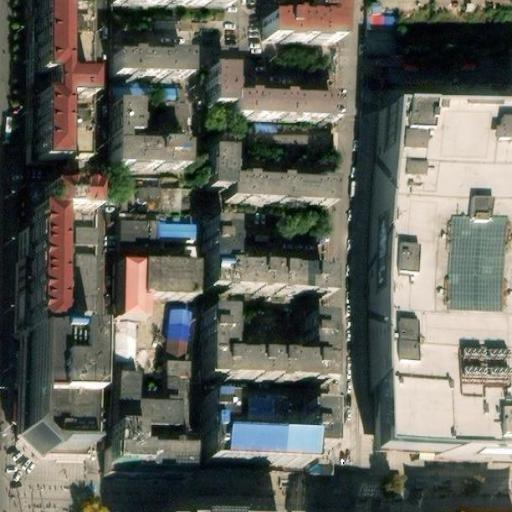building: (387, 142, 512, 490), (28, 0, 88, 184), (196, 316, 331, 386), (200, 404, 331, 475), (208, 230, 332, 303), (30, 204, 89, 357), (206, 148, 334, 208), (208, 63, 338, 121), (106, 263, 184, 341), (36, 357, 89, 465), (104, 359, 178, 430), (104, 101, 176, 169), (104, 430, 184, 473), (118, 225, 192, 256), (248, 125, 334, 148), (120, 59, 191, 82), (171, 499, 278, 512), (370, 10, 399, 26)
